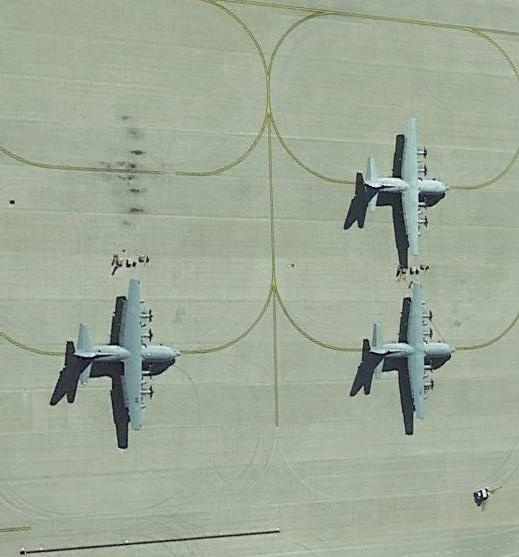C-130: (65, 275, 182, 435), (359, 276, 459, 420), (355, 117, 451, 253)
